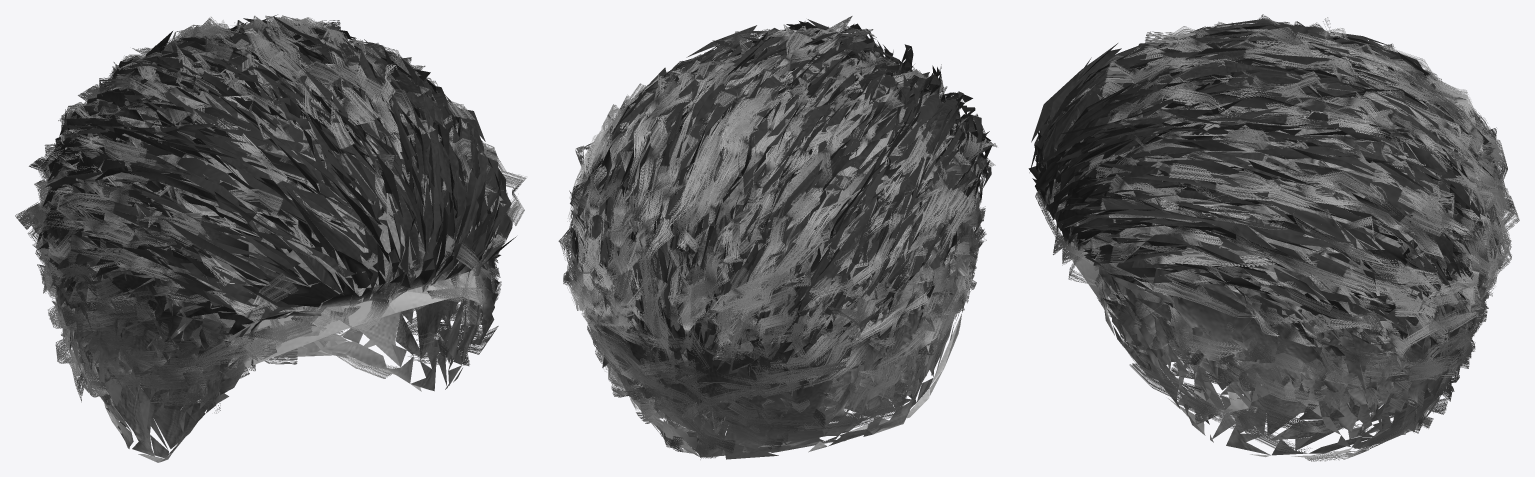
File: hair_slick.glb
The picture shows the model from 3 angles, left to right: view 1: azimuth 30°, elevation 25°; view 2: azimuth 150°, elevation 25°; view 3: azimuth 270°, elevation 25°; orthographic projection. The views are drawn at different scales.
Visible parts, largest first — view 1: Mesh_0, haircards; view 2: haircards, Mesh_0; view 3: Mesh_0, haircards.
Part boxes in pixels (bbox=[...]): Mesh_0: bbox=[36, 14, 517, 462]; haircards: bbox=[15, 15, 526, 413]; haircards: bbox=[558, 16, 997, 459]; Mesh_0: bbox=[569, 19, 992, 459]; Mesh_0: bbox=[1028, 19, 1504, 457]; haircards: bbox=[1035, 14, 1519, 461].
Size of the model in its own units: 0.2175 by 0.2108 by 0.2471.
2 materials, 2 textured.
